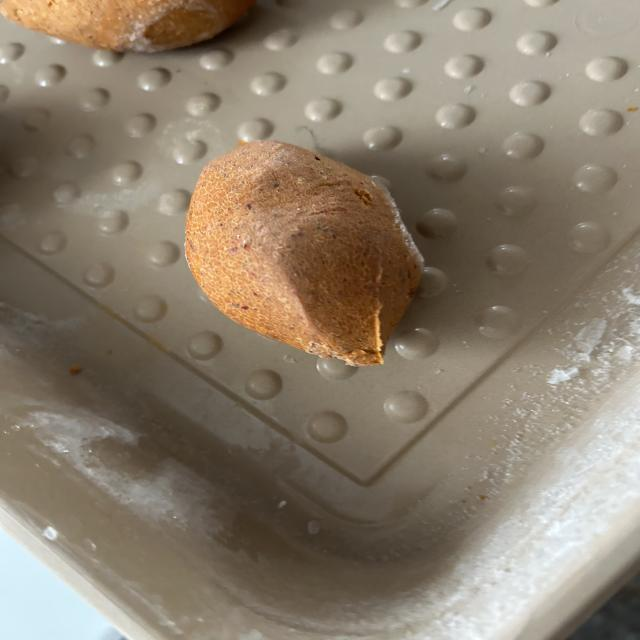kobi: (183, 139, 424, 367)
